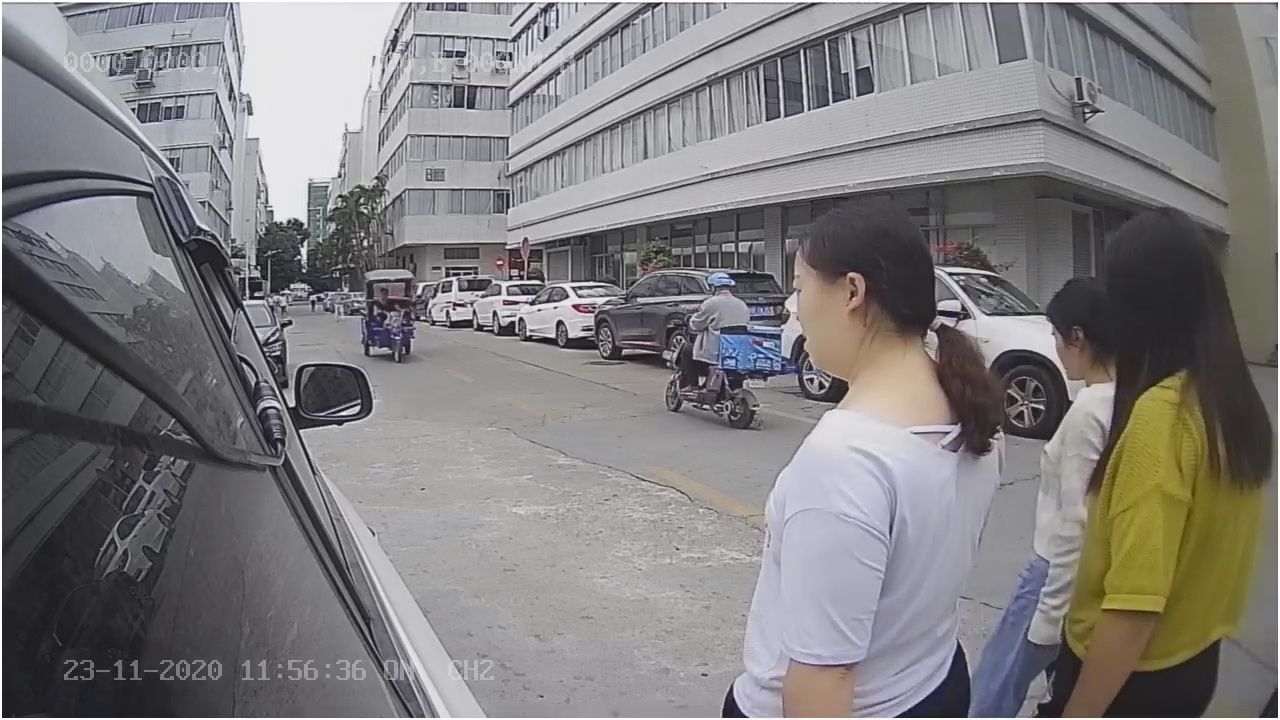person: (755, 191, 986, 709)
